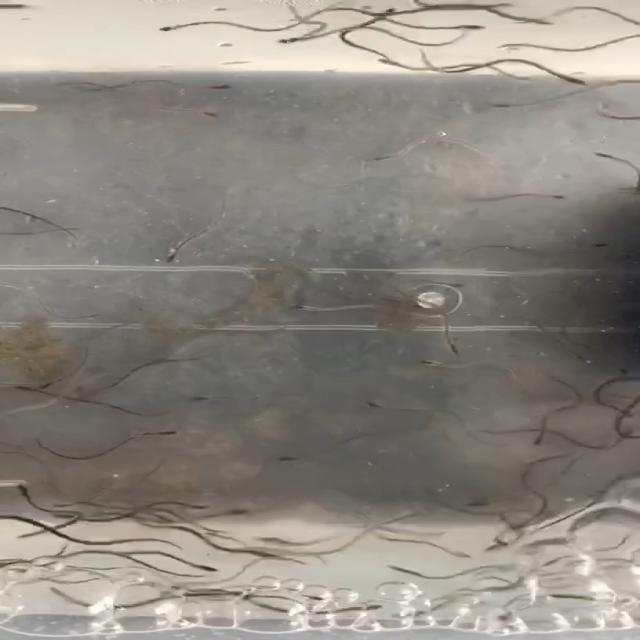active_glass_eel: (0, 376, 48, 404), (3, 286, 62, 307), (414, 272, 470, 294), (229, 547, 286, 567), (433, 335, 480, 359), (278, 297, 334, 317), (180, 388, 223, 414), (446, 20, 500, 40), (353, 150, 418, 166), (537, 70, 594, 88), (404, 356, 464, 372), (575, 440, 619, 461), (594, 9, 640, 29), (176, 102, 222, 122), (148, 16, 196, 34), (339, 600, 386, 618), (37, 373, 83, 391), (178, 494, 221, 513), (18, 524, 58, 544), (180, 559, 222, 578), (539, 186, 572, 210), (142, 425, 191, 441), (153, 247, 192, 267), (348, 394, 386, 414), (364, 1, 406, 19), (8, 484, 45, 504), (554, 232, 592, 251), (482, 537, 520, 556), (482, 97, 524, 114), (526, 429, 561, 449), (243, 394, 281, 412), (268, 30, 308, 47), (244, 532, 285, 548), (442, 544, 474, 564), (195, 80, 240, 94), (377, 562, 416, 578), (271, 449, 303, 468), (192, 514, 231, 528), (602, 405, 636, 421), (521, 16, 551, 34), (587, 149, 617, 166), (368, 56, 408, 68)
